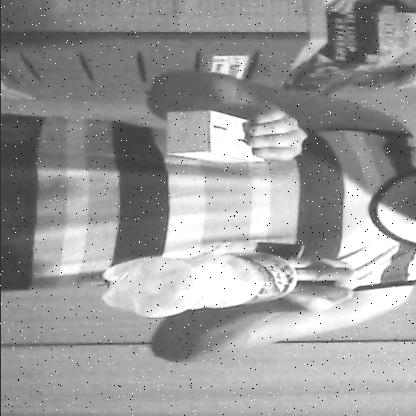Plastic Bottle: (91, 235, 332, 327)
